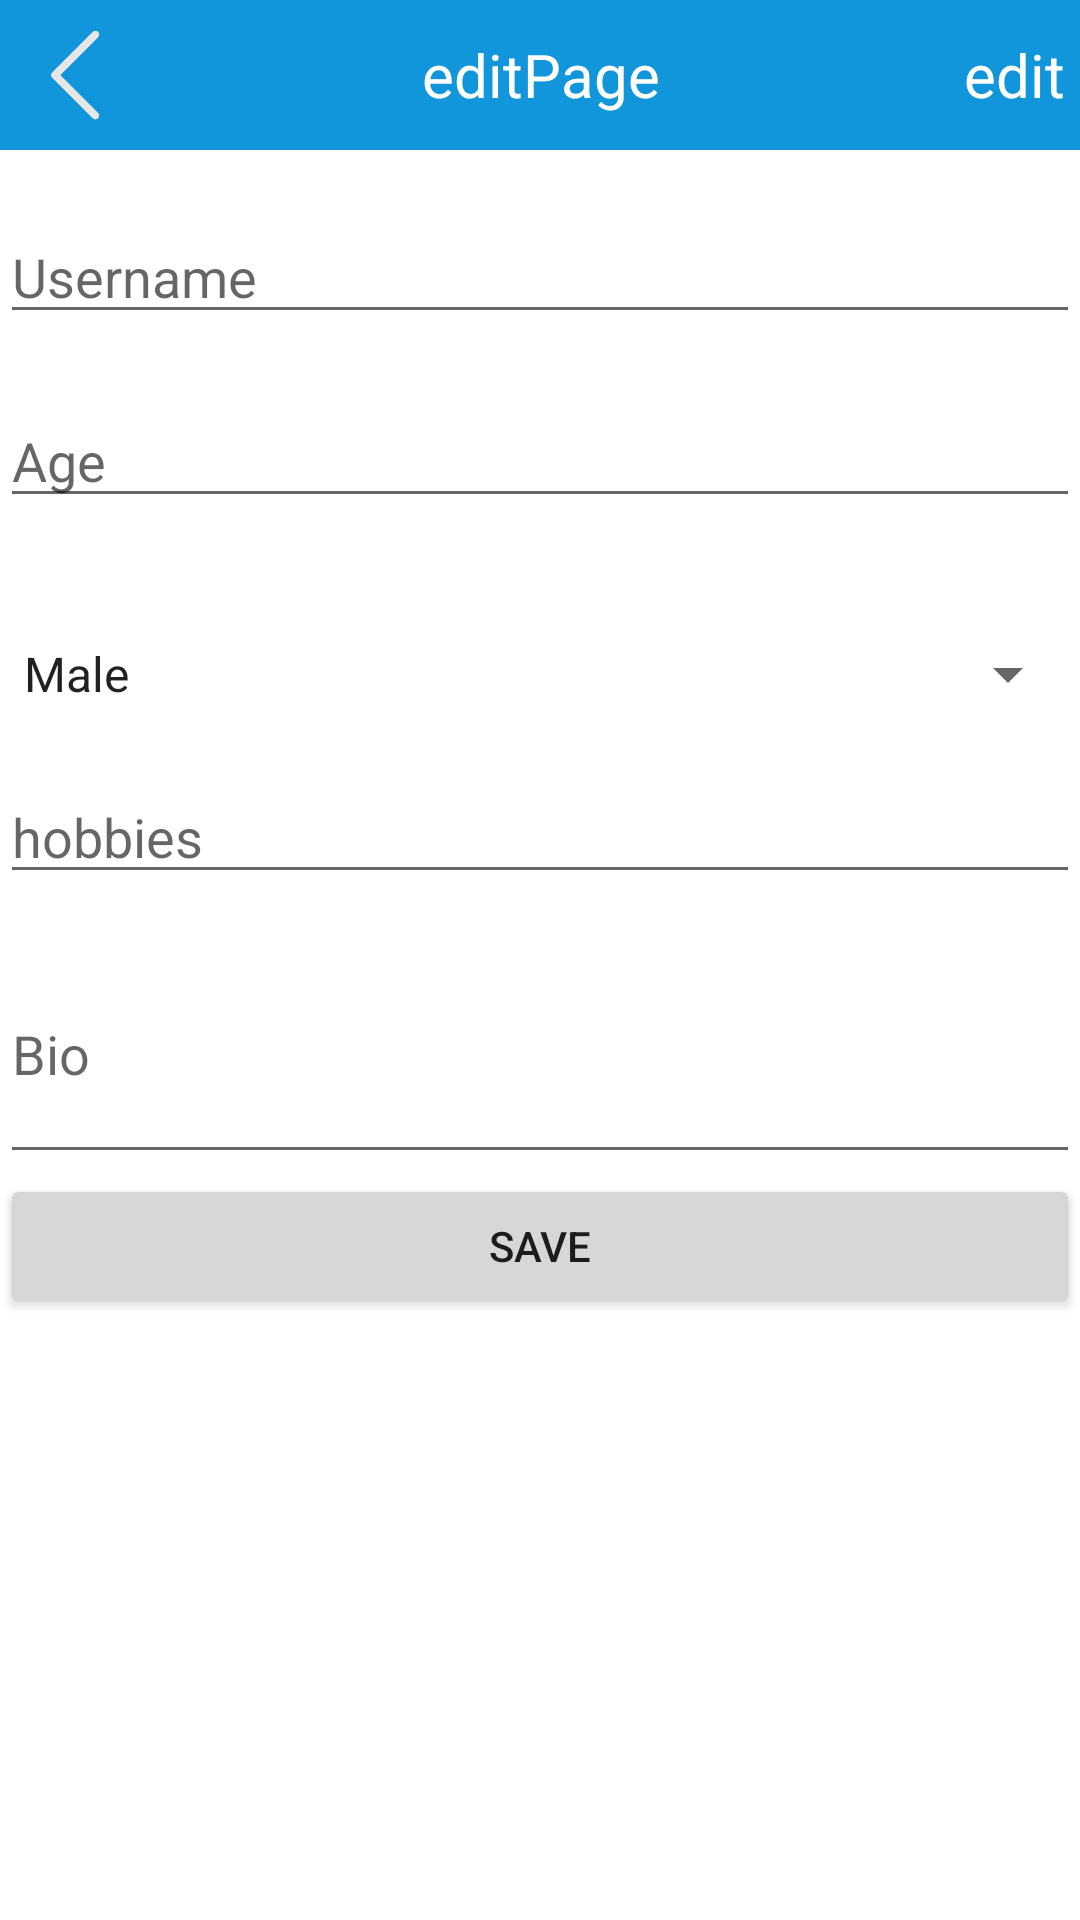

Locate icon controls on the screen. Image size 1080px x 1920px, boxes as rect(x1, y1, x2, y2).
back: rect(51, 30, 99, 120)
